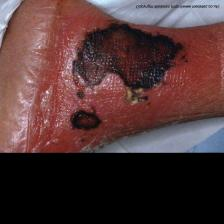Wound: (72, 8, 189, 101)
